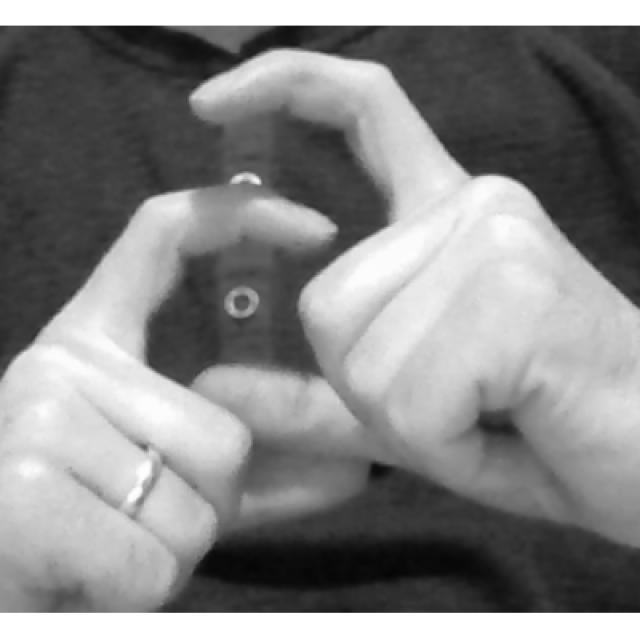G-: (2, 26, 639, 611)
